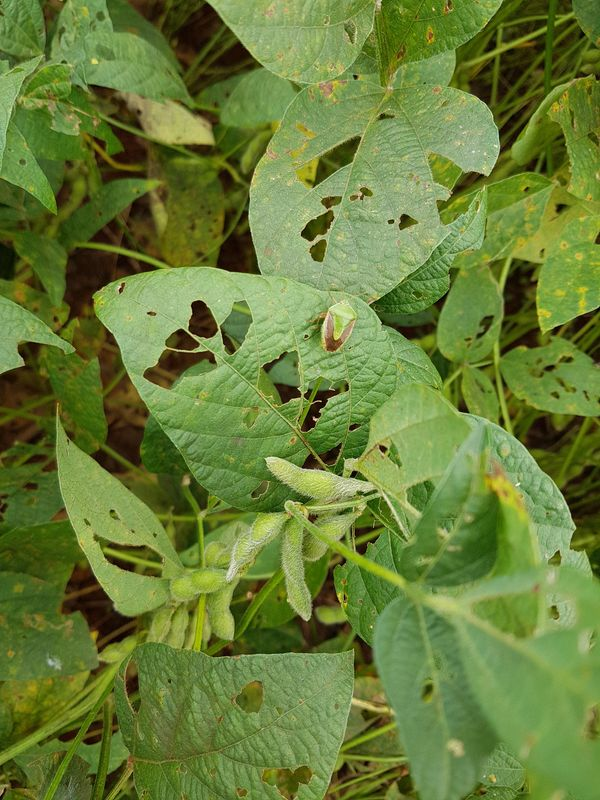Edessa_meditabunda: (309, 281, 377, 359)
